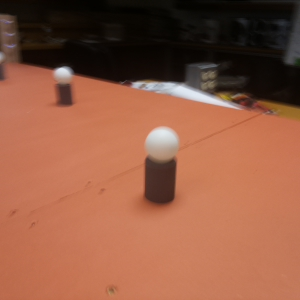corner: (2, 16, 20, 62)
obstacle: (142, 124, 178, 208), (53, 66, 73, 105)
